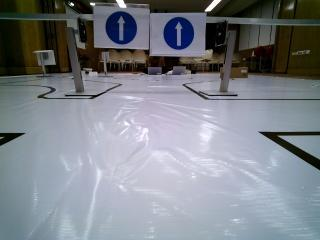straight: (149, 13, 207, 56), (95, 3, 148, 50)
